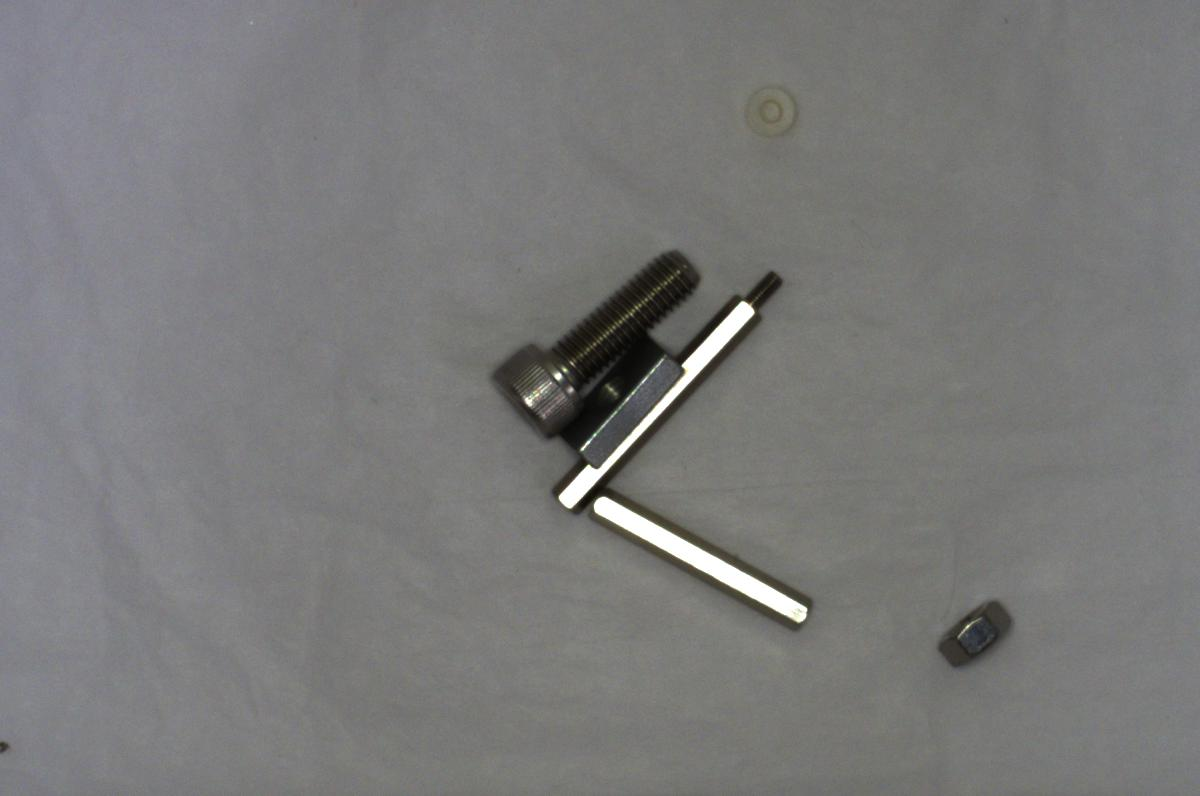Double hexagonal column: (586, 490, 814, 630)
Hexagon nut: (928, 590, 1019, 670)
Hexagon screw: (480, 245, 699, 432)
Hexagonal steel column: (545, 265, 792, 509)
Plastic cushion pillar: (735, 78, 799, 139)
Rectangular nut: (561, 334, 677, 465)
